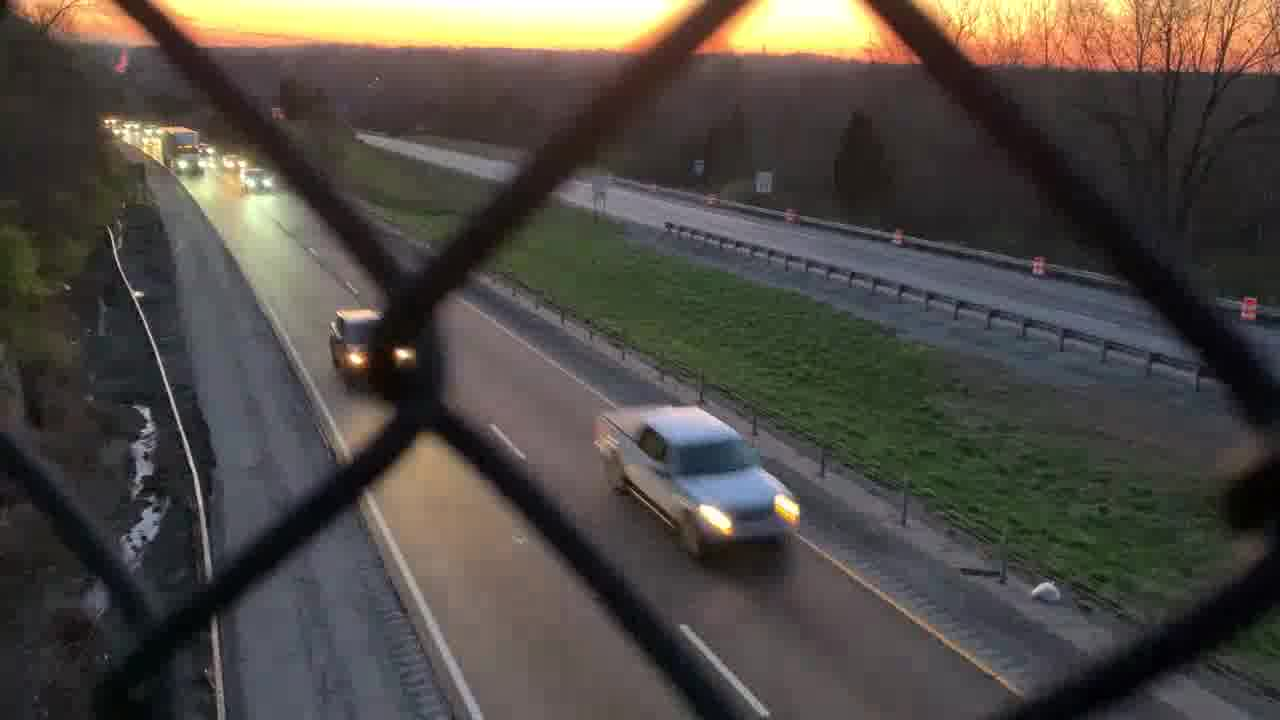lightTruck: (594, 397, 812, 552)
